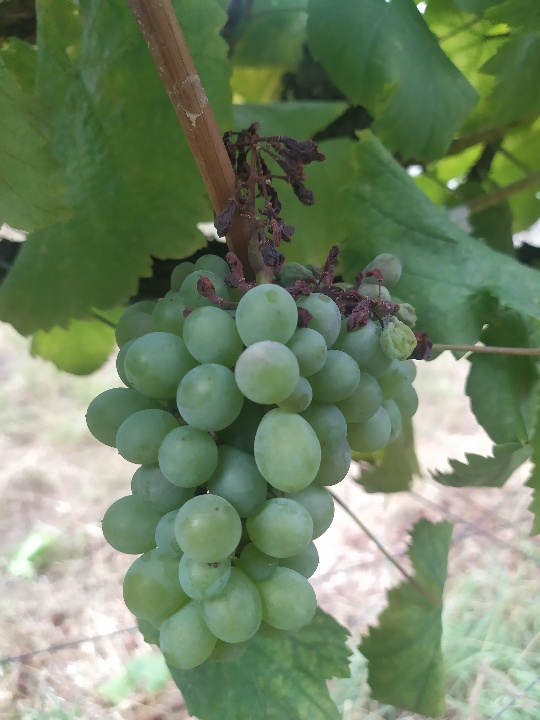grape: (82, 118, 435, 672)
